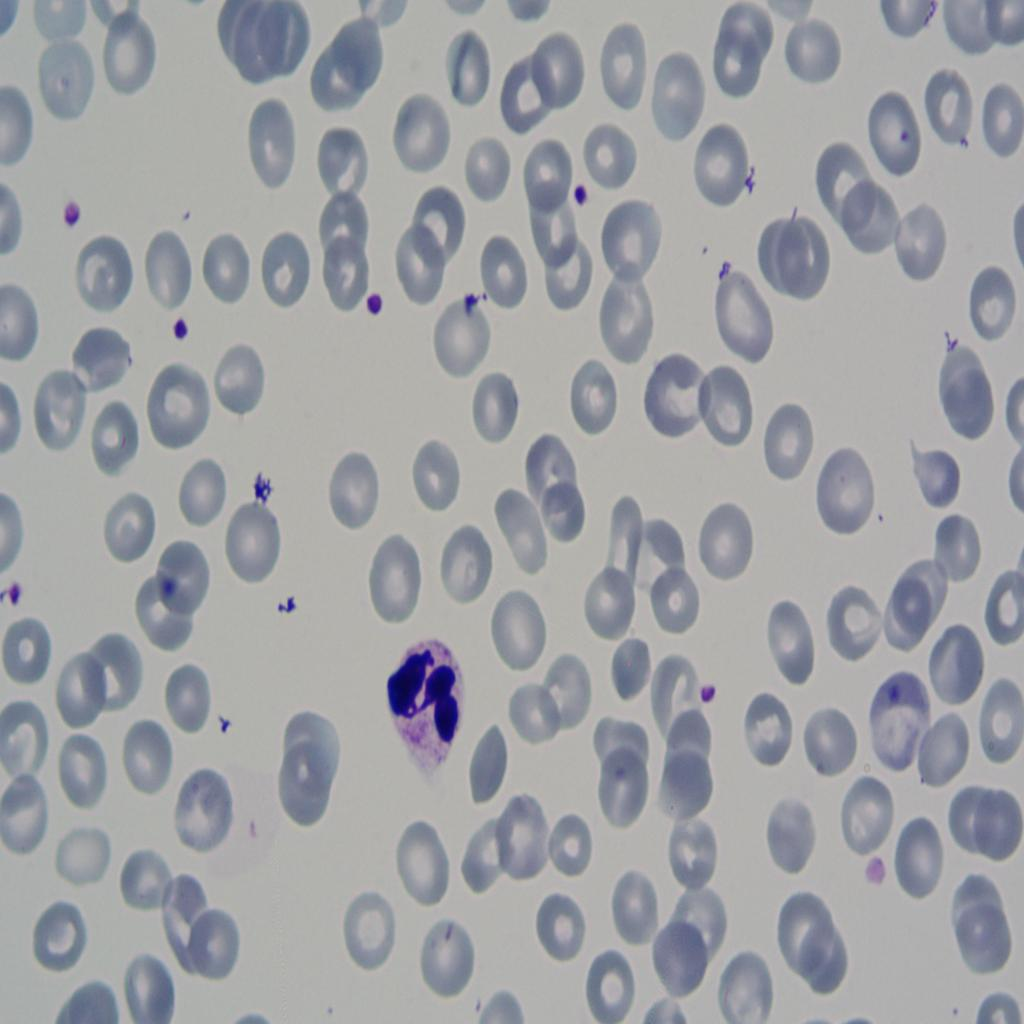Neutrofil: (384, 628, 467, 778)
Platelet: (692, 666, 721, 714), (169, 303, 194, 354), (252, 470, 283, 508), (61, 191, 87, 230), (158, 567, 182, 605), (363, 284, 383, 324), (0, 583, 30, 608), (212, 708, 237, 736), (568, 182, 588, 212), (460, 287, 474, 314)
